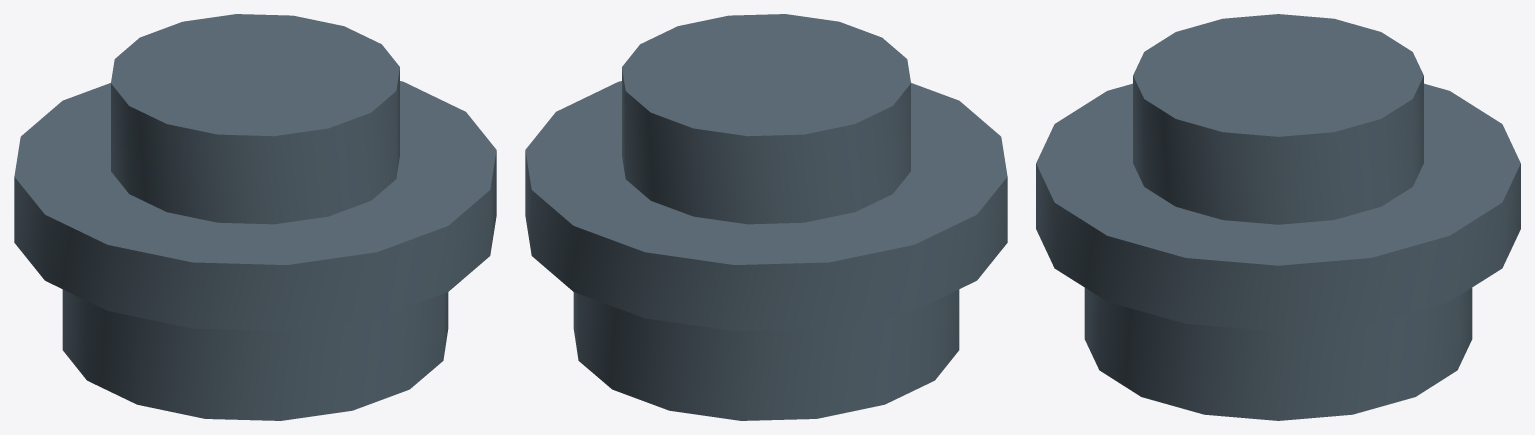
The model's file is Black_Stud_Final.fbx.
3 renders of one model, left to right at view 1: azimuth 30°, elevation 25°; view 2: azimuth 150°, elevation 25°; view 3: azimuth 270°, elevation 25°, orthographic.
Visible parts, largest first — view 1: Black_Stud; view 2: Black_Stud; view 3: Black_Stud.
Boxes of the visible parts, x1,y1,x2,y2 form: Black_Stud: (14,14,496,420); Black_Stud: (525,14,1007,420); Black_Stud: (1036,14,1520,420).
Bounding box in the file's own units: 200 × 120 × 200.
